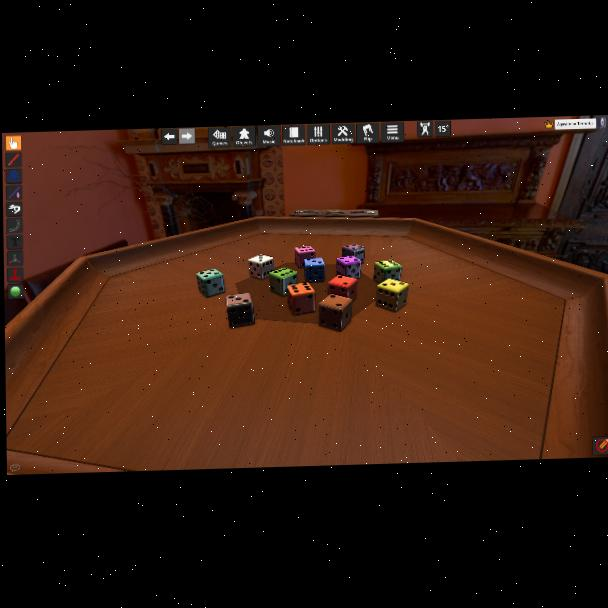d6: (317, 293, 350, 331), (376, 278, 409, 313), (225, 293, 254, 329), (286, 283, 313, 316), (269, 268, 298, 298), (196, 268, 224, 298), (328, 275, 357, 303), (248, 254, 274, 281), (373, 259, 401, 284), (335, 255, 361, 281), (294, 245, 316, 269), (341, 244, 365, 266), (303, 259, 323, 283)
